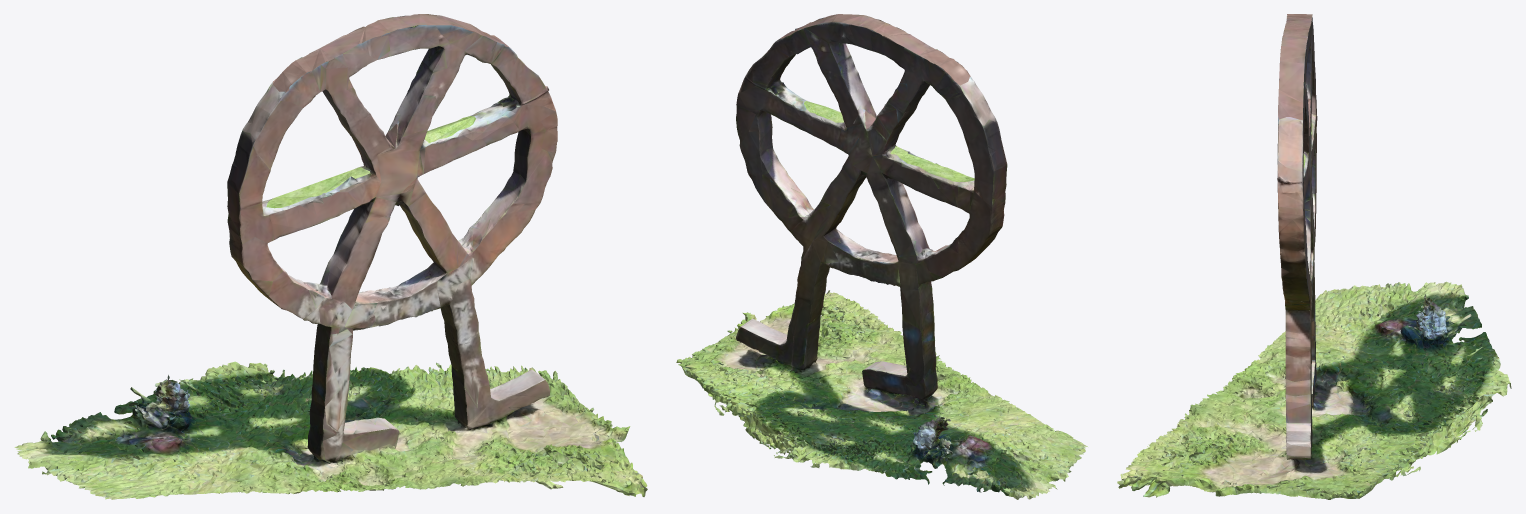
The picture shows the model from 3 angles, left to right: view 1: azimuth 30°, elevation 25°; view 2: azimuth 150°, elevation 25°; view 3: azimuth 270°, elevation 25°; orthographic projection. The views are drawn at different scales.
Parts seen in each view (by area): view 1: 512.25k; view 2: 512.25k; view 3: 512.25k.
Boxes of the visible parts, box(x1,y1,x2,y2) form: 512.25k: box(14, 14, 647, 499); 512.25k: box(676, 14, 1087, 499); 512.25k: box(1117, 14, 1511, 499).
Bounding box in the file's own units: 3.2 × 2.76 × 2.51.
Materials: 1 (1 with a texture image).
